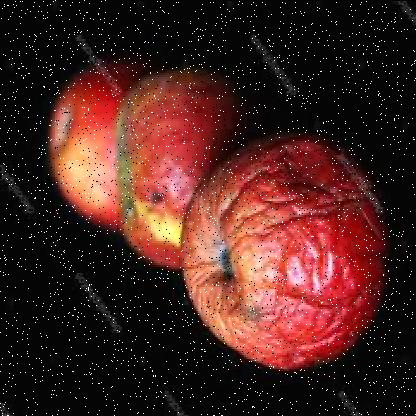damaged_apple: (182, 122, 380, 368), (117, 66, 229, 280)
